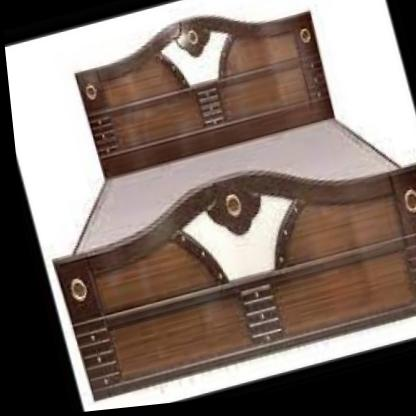Bed: (0, 0, 416, 409)
